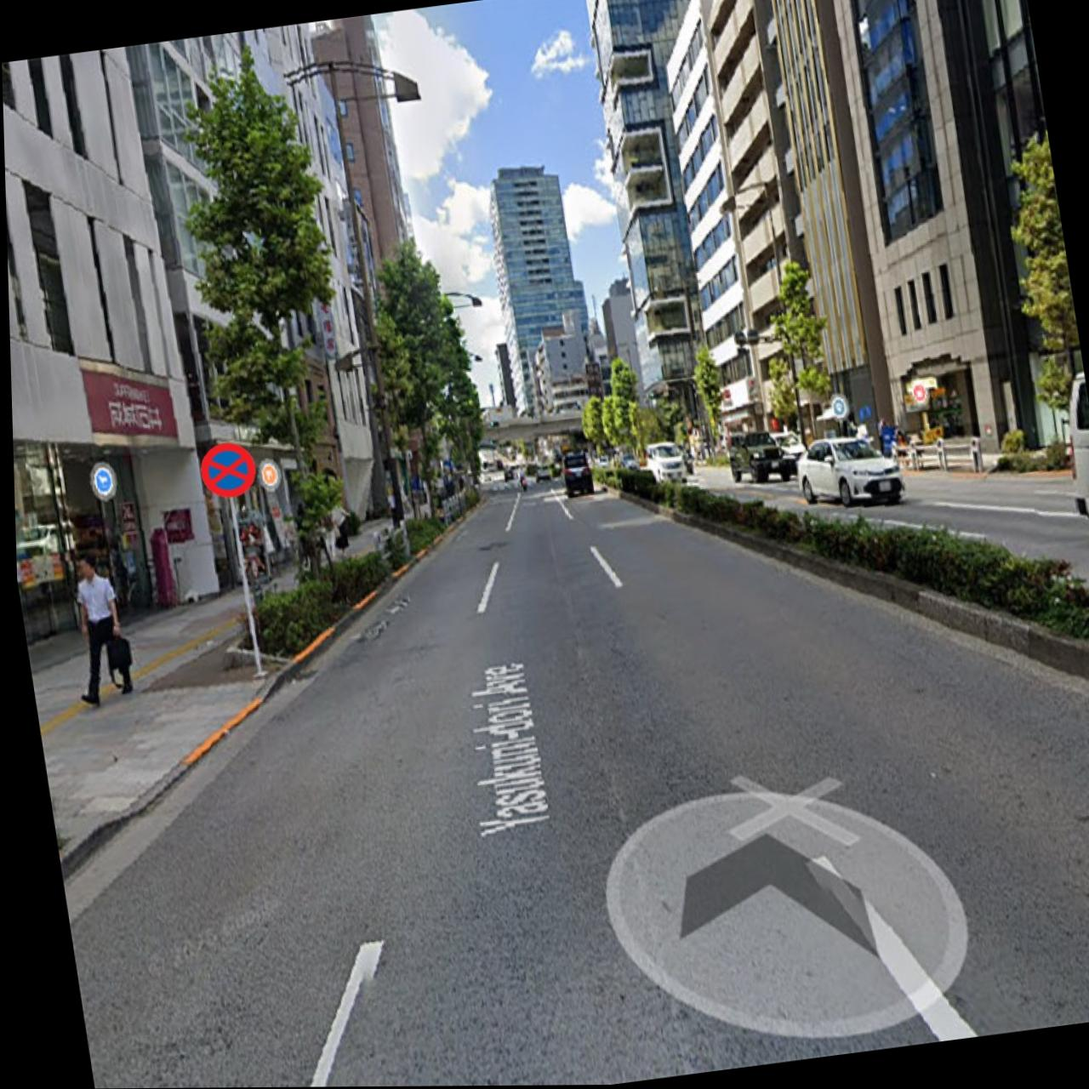stop_sign: (193, 432, 264, 505)
